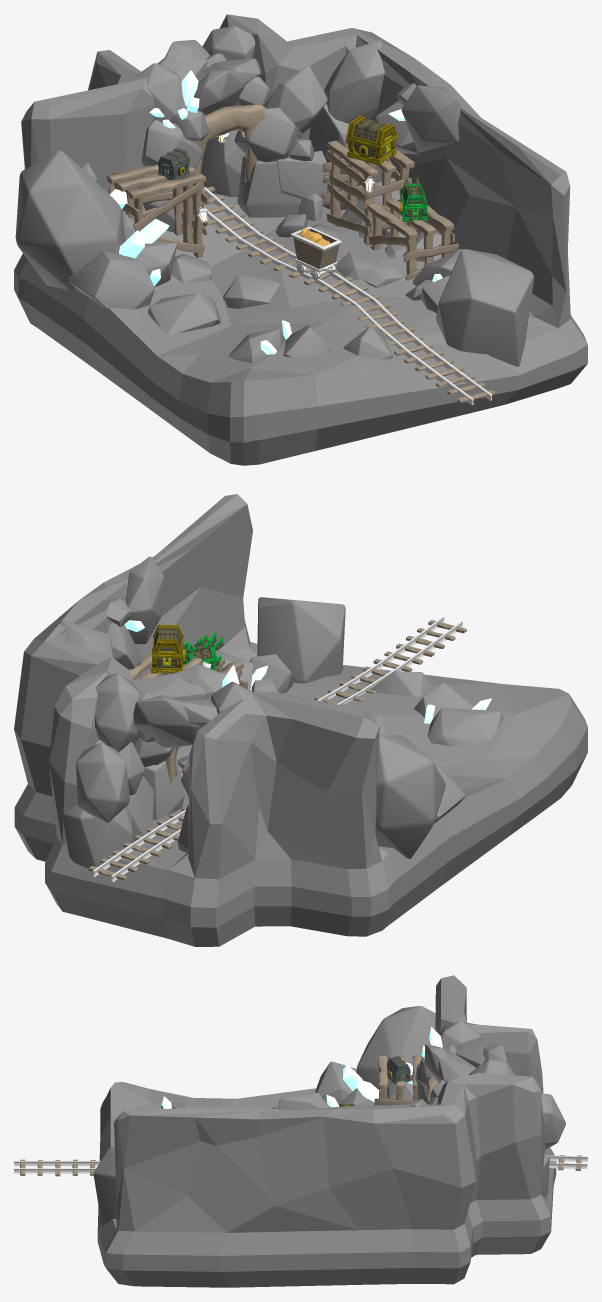
Rendered from low_poly_mine_cave.glb.
3 views of the same model, one above another, from view 1: azimuth 30°, elevation 25°; view 2: azimuth 150°, elevation 25°; view 3: azimuth 270°, elevation 25° (orthographic). The views are drawn at different scales.
Parts seen in each view (by area): view 1: Plane_16, Rcok1.001_17, Rock3.032_85, Rail_12, Wood.004_53, Wood.001_20, Rock3.022_75, Wood.002_52, Rock3.001_19, Rock3.020_72, Rock2.003_26, Rock3.023_76 (+28 smaller); view 2: Plane_16, Rcok1.001_17, Rock3.032_85, Rail_12, Rcok1.014_61, Rock2.007_60, Rcok1.013_41, Rcok1.012_40, Rock3.020_72, Rock3.012_59, Rock2.003_26, Rock3.006_34 (+12 smaller); view 3: Plane_16, Rcok1.001_17, Rail_12, Rock3.032_85, Wood.004_53, Rock3.001_19, Rcok1.014_61, Rcok1.008_33, Rock3.006_34, Rock3.020_72, Rock3.007_42, Rcok1.006_31 (+1 smaller).
Boxes of the visible parts, bbox=[...] form: Plane_16: bbox=[14, 14, 587, 465]; Rcok1.001_17: bbox=[15, 150, 125, 289]; Rock3.032_85: bbox=[436, 249, 534, 366]; Rail_12: bbox=[202, 182, 495, 405]; Wood.004_53: bbox=[106, 164, 208, 257]; Wood.001_20: bbox=[322, 138, 414, 245]; Rock3.022_75: bbox=[324, 40, 384, 123]; Wood.002_52: bbox=[367, 198, 458, 280]; Rock3.001_19: bbox=[68, 251, 154, 309]; Rock3.020_72: bbox=[401, 85, 461, 152]; Rock2.003_26: bbox=[237, 155, 300, 217]; Rock3.023_76: bbox=[265, 65, 327, 133]; Plane_16: bbox=[14, 494, 587, 946]; Rcok1.001_17: bbox=[375, 735, 445, 858]; Rock3.032_85: bbox=[257, 597, 345, 683]; Rail_12: bbox=[88, 616, 466, 882]; Rcok1.014_61: bbox=[76, 743, 129, 823]; Rock2.007_60: bbox=[62, 804, 132, 868]; Rcok1.013_41: bbox=[95, 673, 140, 751]; Rcok1.012_40: bbox=[133, 695, 201, 748]; Rock3.020_72: bbox=[126, 556, 164, 644]; Rock3.012_59: bbox=[427, 708, 503, 746]; Rock2.003_26: bbox=[143, 756, 184, 819]; Rock3.006_34: bbox=[131, 672, 206, 698]; Plane_16: bbox=[97, 975, 556, 1287]; Rcok1.001_17: bbox=[356, 1006, 435, 1090]; Rail_12: bbox=[14, 1155, 587, 1176]; Rock3.032_85: bbox=[93, 1146, 116, 1226]; Wood.004_53: bbox=[374, 1055, 421, 1105]; Rock3.001_19: bbox=[315, 1061, 356, 1107]; Rcok1.014_61: bbox=[541, 1093, 565, 1149]; Rcok1.008_33: bbox=[439, 1021, 481, 1049]; Rock3.006_34: bbox=[437, 1051, 475, 1082]; Rock3.020_72: bbox=[278, 1092, 329, 1110]; Rock3.007_42: bbox=[455, 1039, 489, 1067]; Rcok1.006_31: bbox=[424, 1044, 448, 1082].
Bounding box in the file's own units: 42.94 × 22.89 × 65.75.
11 materials, 5 textured.
